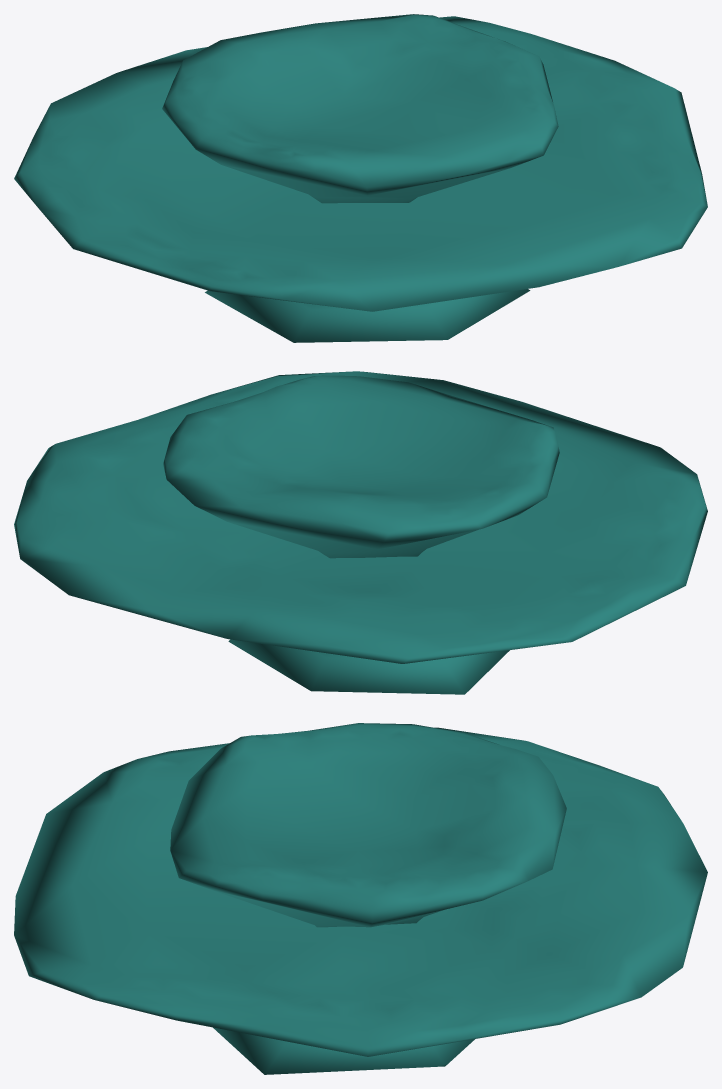
The model's file is my_mesh_Table_Coral.glb.
3 views of the same model, one above another, from view 1: azimuth 30°, elevation 25°; view 2: azimuth 150°, elevation 25°; view 3: azimuth 270°, elevation 25° (orthographic). The views are drawn at different scales.
Parts seen in each view (by area): view 1: Table_Coral; view 2: Table_Coral; view 3: Table_Coral.
Boxes of the visible parts, x1,y1,x2,y2 form: Table_Coral: (14, 14, 707, 342); Table_Coral: (14, 371, 707, 694); Table_Coral: (14, 723, 707, 1074).
Size of the model in its own units: 16.62 by 5.27 by 15.
Materials: 1 (1 with a texture image).
